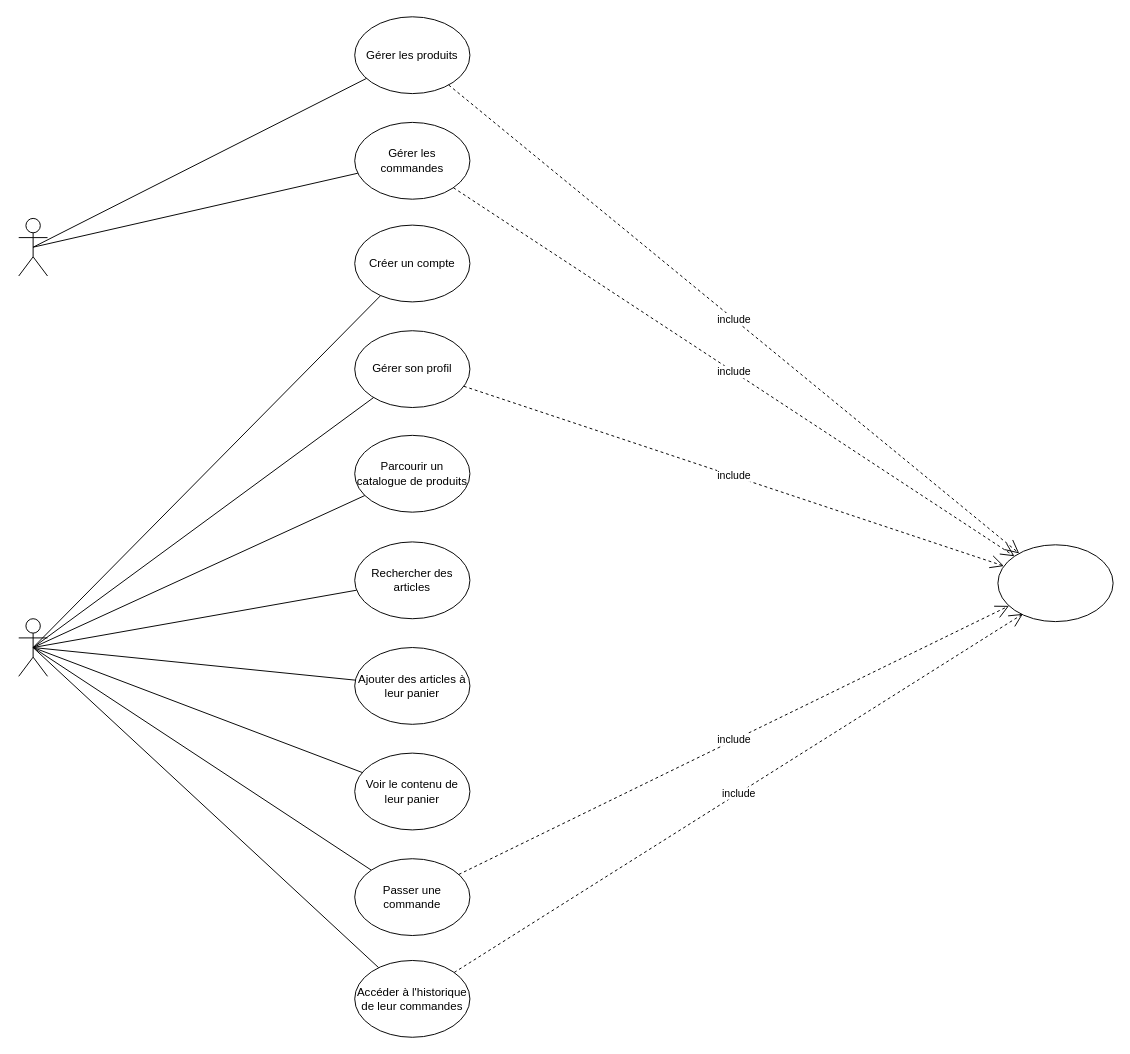
Image size: 1130x1054. Some labels were removed from this diagram. Here are the shapes that lost their labels. From the top down, the centre of each, then its label:
At [33,246]: "Admin".
At [1055,583]: "Authentifier".
At [33,647]: "Client".
